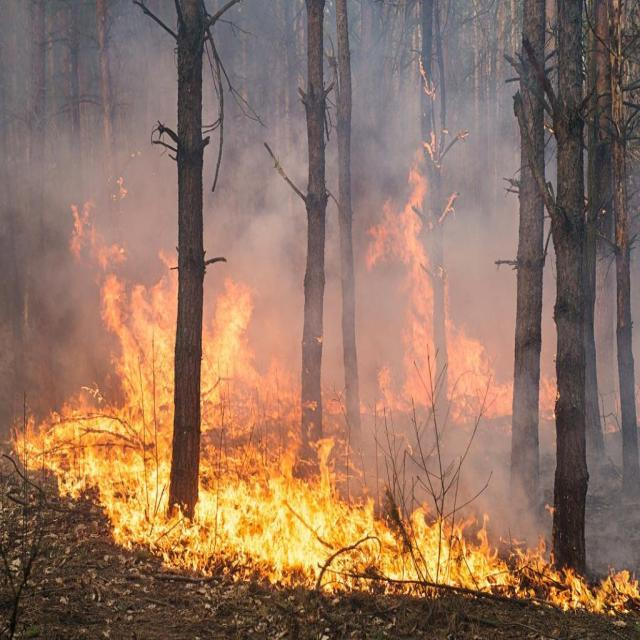Fire: (198, 478, 376, 590), (105, 276, 176, 541), (383, 511, 512, 596), (19, 396, 102, 508), (521, 540, 640, 618), (205, 290, 255, 454), (401, 197, 436, 410), (450, 332, 496, 420)
Smoke: (5, 136, 76, 378), (209, 125, 302, 264), (354, 17, 416, 156), (460, 147, 510, 315)
